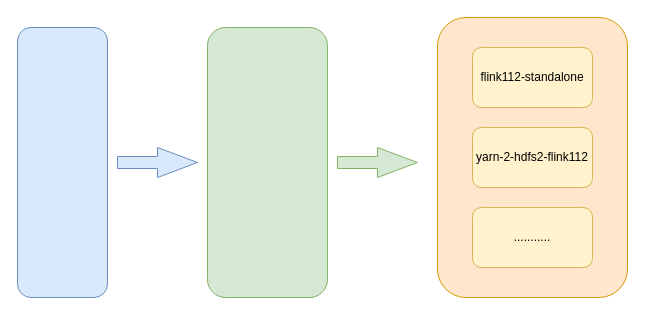
Some shapes in this 645 by 315 pixel diagram are drawn without their labels. Here are the shapes that lost their labels. From the top down, the box of each, then its label:
(16, 26, 108, 298): taier-ui
(206, 26, 328, 298): taier-data-develop
